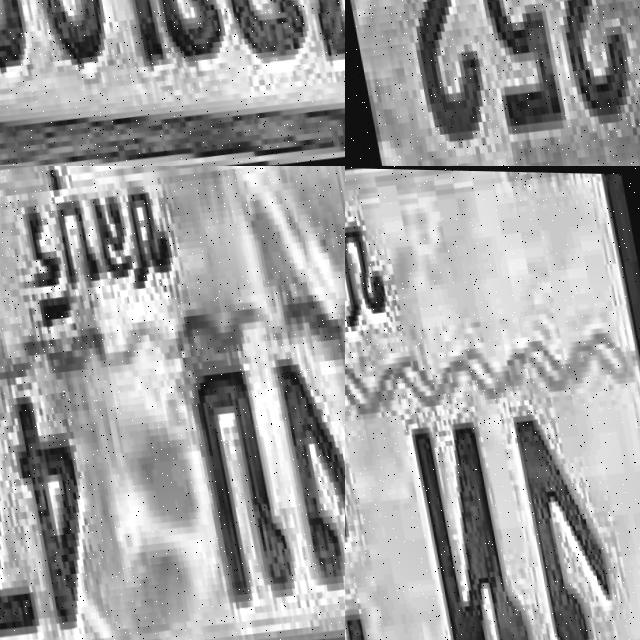license-plate: (0, 166, 345, 640), (345, 166, 640, 640), (0, 0, 345, 166), (345, 0, 640, 166)
